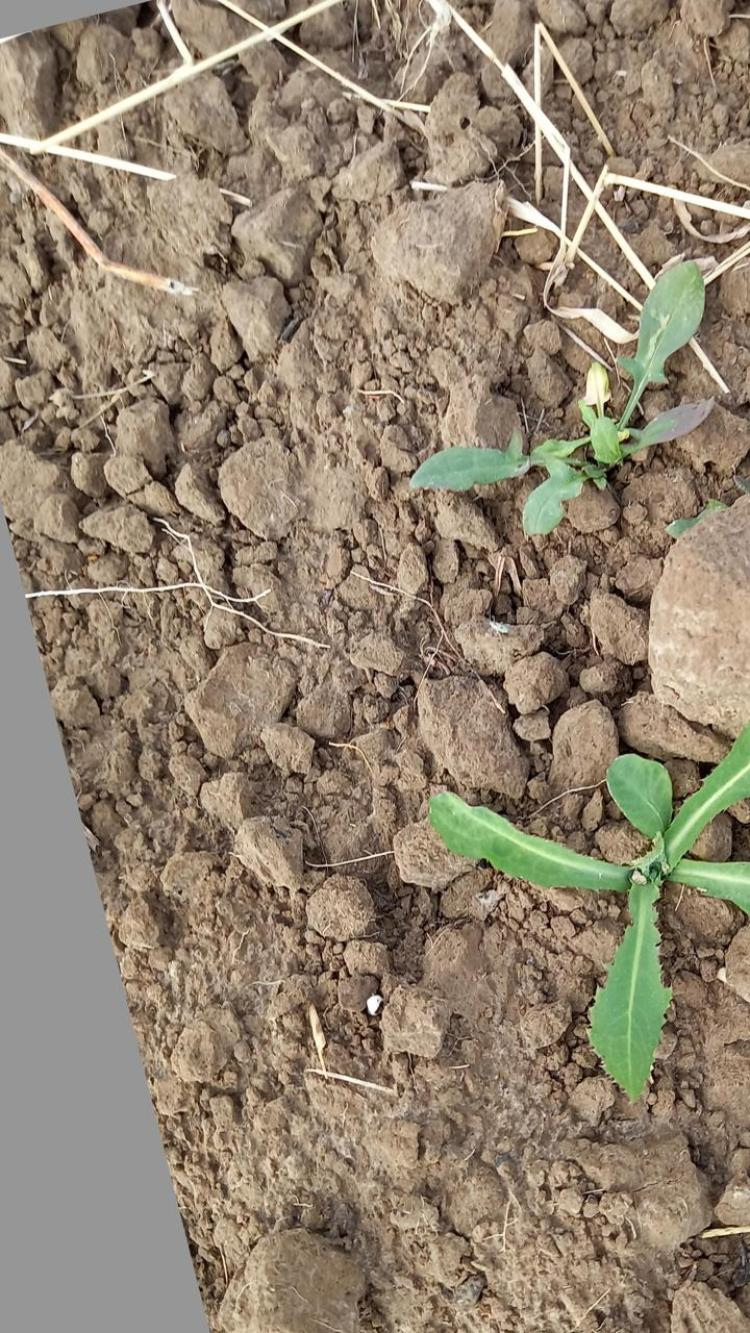osot: (439, 725, 750, 1104)
